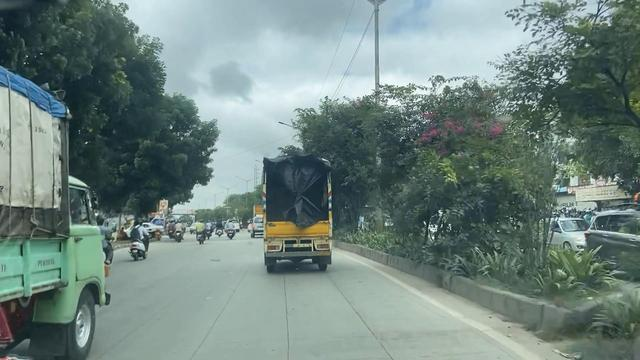HMV: (0, 62, 130, 360), (258, 127, 358, 297)
